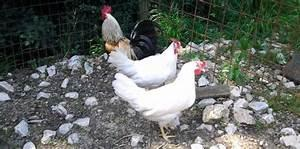hen: (108, 61, 212, 140), (102, 36, 183, 83)
